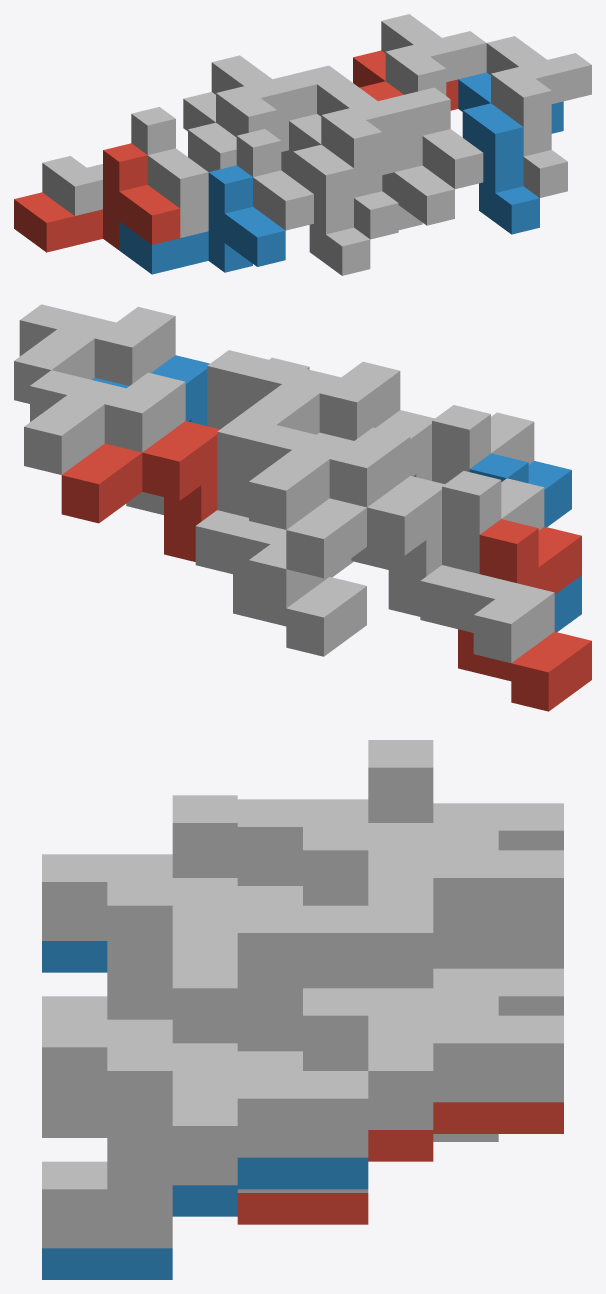
File: tiling.obj
The picture shows the model from 3 angles, top to bottom: view 1: azimuth 30°, elevation 25°; view 2: azimuth 150°, elevation 25°; view 3: azimuth 270°, elevation 25°; orthographic projection. The views are drawn at different scales.
Parts seen in each view (by area): view 1: copy_1_domain_1, copy_2_domain_4, copy_2_domain_8, copy_1_domain_2, copy_2_domain_6, copy_2_domain_2, copy_1_domain_3, copy_2_domain_7, copy_2_domain_3, copy_1_domain_4, copy_1_domain_6, copy_1_domain_8 (+3 smaller); view 2: copy_1_domain_3, copy_2_domain_3, copy_2_domain_7, copy_2_domain_5, copy_2_domain_1, copy_1_domain_1, copy_2_domain_8, copy_1_domain_7, copy_2_domain_4, copy_1_domain_5, copy_1_domain_4, copy_1_domain_2 (+3 smaller); view 3: copy_2_domain_8, copy_2_domain_4, copy_2_domain_7, copy_2_domain_3, copy_1_domain_3, copy_1_domain_7, copy_1_domain_8, copy_1_domain_4, copy_2_domain_6, copy_2_domain_5, copy_2_domain_1, copy_1_domain_2 (+1 smaller).
Boxes of the visible parts, left/top/right/bottom form: copy_1_domain_1: left=14, top=143, right=180, bottom=252; copy_2_domain_4: left=317, top=77, right=422, bottom=239; copy_2_domain_8: left=486, top=36, right=591, bottom=197; copy_1_domain_2: left=119, top=165, right=285, bottom=274; copy_2_domain_6: left=458, top=72, right=563, bottom=234; copy_2_domain_2: left=289, top=114, right=394, bottom=275; copy_1_domain_3: left=42, top=107, right=208, bottom=215; copy_2_domain_7: left=381, top=14, right=486, bottom=95; copy_2_domain_3: left=211, top=55, right=316, bottom=137; copy_1_domain_4: left=180, top=129, right=313, bottom=237; copy_1_domain_6: left=382, top=136, right=454, bottom=229; copy_1_domain_8: left=406, top=87, right=483, bottom=189; copy_1_domain_3: left=420, top=471, right=554, bottom=662; copy_2_domain_3: left=249, top=425, right=410, bottom=569; copy_2_domain_7: left=24, top=370, right=185, bottom=514; copy_2_domain_5: left=61, top=421, right=219, bottom=561; copy_2_domain_1: left=286, top=476, right=444, bottom=616; copy_1_domain_1: left=458, top=519, right=591, bottom=711; copy_2_domain_8: left=14, top=304, right=175, bottom=403; copy_1_domain_7: left=195, top=416, right=329, bottom=608; copy_2_domain_4: left=239, top=359, right=400, bottom=440; copy_1_domain_5: left=233, top=574, right=366, bottom=656; copy_1_domain_4: left=432, top=405, right=534, bottom=483; copy_1_domain_2: left=469, top=453, right=581, bottom=631; copy_2_domain_8: left=42, top=1043, right=368, bottom=1248; copy_2_domain_4: left=42, top=878, right=368, bottom=1019; copy_2_domain_7: left=237, top=988, right=563, bottom=1192; copy_2_domain_3: left=303, top=823, right=563, bottom=936; copy_1_domain_3: left=237, top=740, right=563, bottom=885; copy_1_domain_7: left=237, top=905, right=563, bottom=1051; copy_1_domain_8: left=42, top=960, right=302, bottom=1106; copy_1_domain_4: left=42, top=795, right=302, bottom=940; copy_2_domain_6: left=42, top=1157, right=368, bottom=1279; copy_2_domain_5: left=237, top=1102, right=563, bottom=1224; copy_2_domain_1: left=433, top=937, right=563, bottom=968; copy_1_domain_2: left=42, top=941, right=107, bottom=972.
Bounding box in the file's own units: 17 × 4 × 8.
